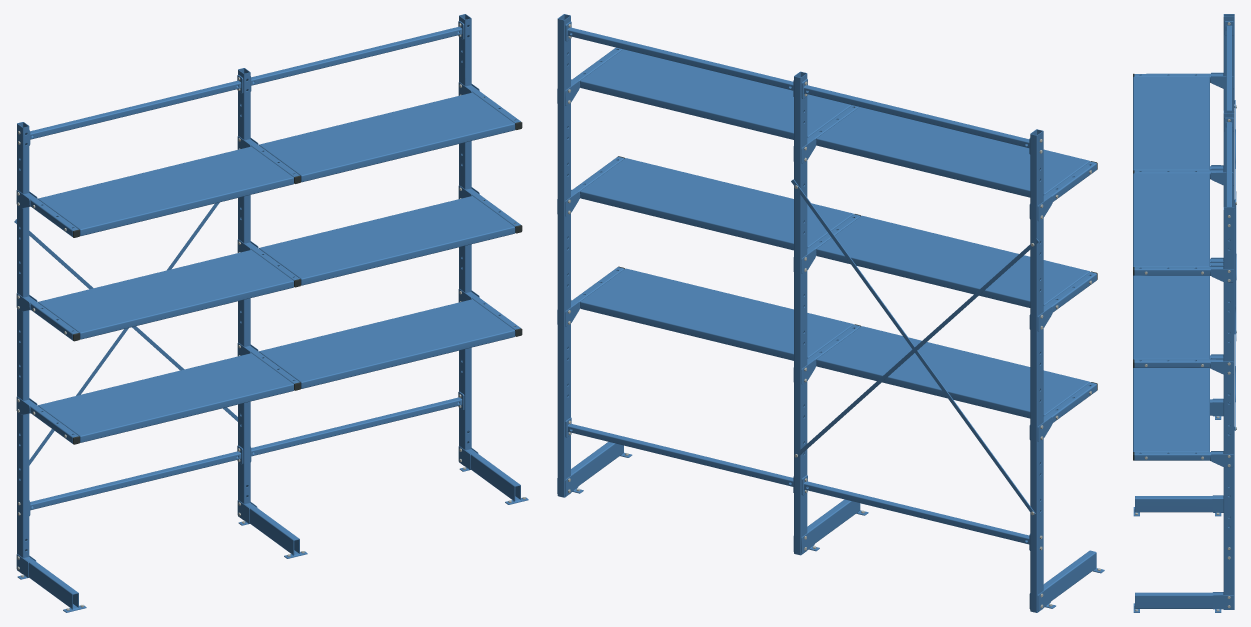
File: rack_f04.glb
The picture shows the model from 3 angles, left to right: view 1: azimuth 30°, elevation 25°; view 2: azimuth 150°, elevation 25°; view 3: azimuth 270°, elevation 25°; orthographic projection. The views are drawn at different scales.
Size of the model in its own units: 2.11 by 1.95 by 0.4594.
